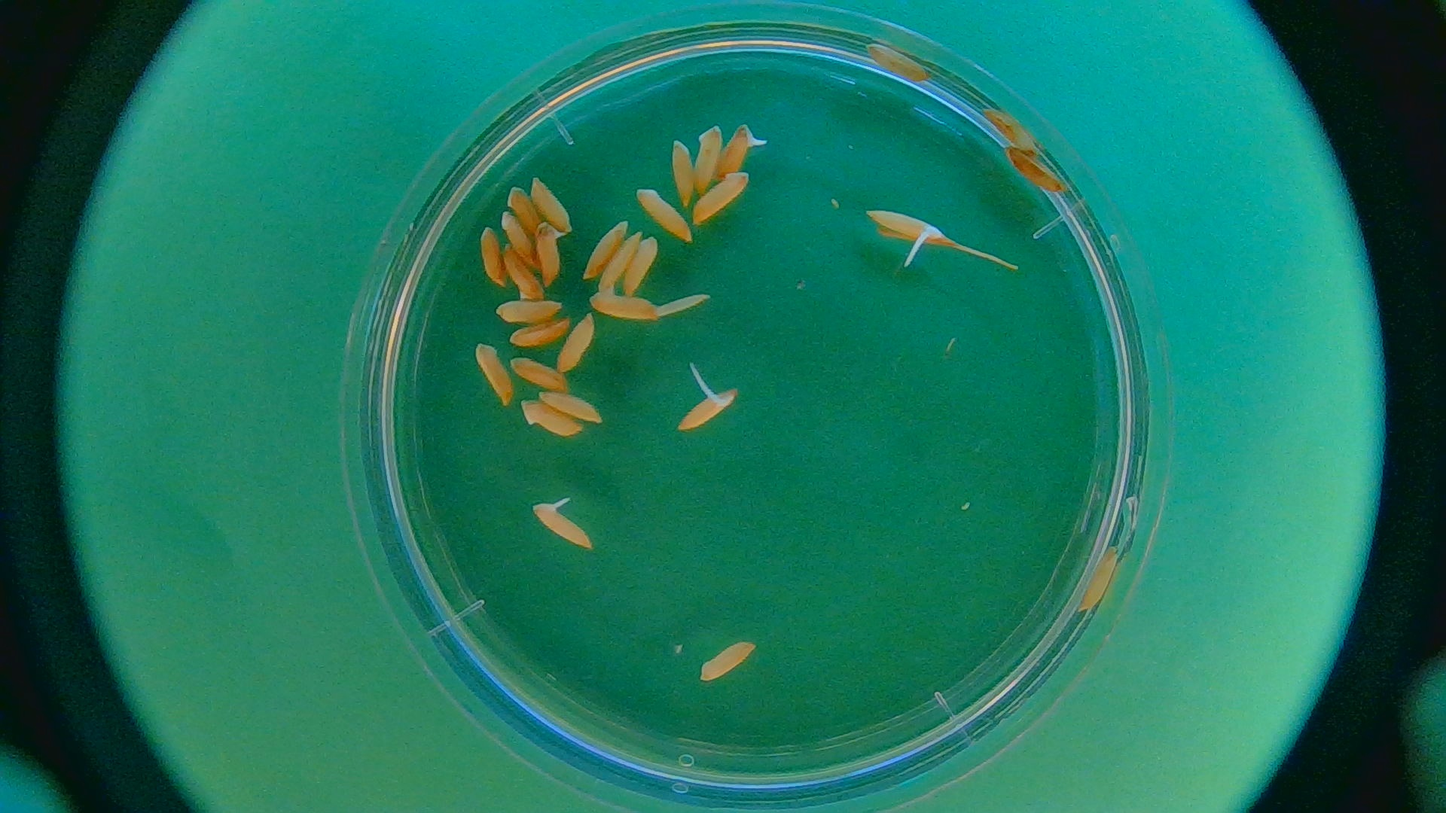no: (633, 187, 695, 247), (1073, 544, 1122, 617), (1003, 144, 1067, 193), (975, 104, 1039, 151), (693, 172, 747, 227), (858, 41, 930, 82), (597, 230, 642, 295), (471, 341, 514, 406), (496, 244, 544, 302), (517, 397, 581, 440), (525, 175, 574, 230), (581, 220, 627, 278), (553, 314, 596, 376), (508, 355, 570, 397), (535, 388, 603, 425), (473, 224, 511, 290), (530, 221, 568, 285), (494, 210, 537, 265), (689, 121, 720, 196), (700, 639, 755, 679), (504, 185, 544, 236), (622, 238, 657, 296), (667, 141, 697, 208), (510, 317, 572, 349), (497, 295, 563, 321)
yes: (528, 500, 593, 551), (870, 206, 944, 247), (585, 291, 669, 325), (678, 386, 735, 432), (718, 120, 755, 179)
